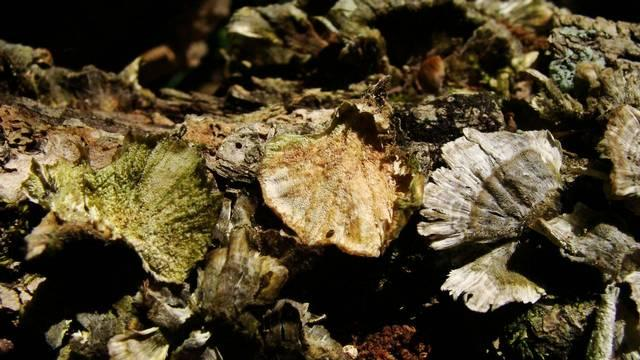poisonous_mushroom: (35, 108, 429, 280), (415, 125, 567, 313)
